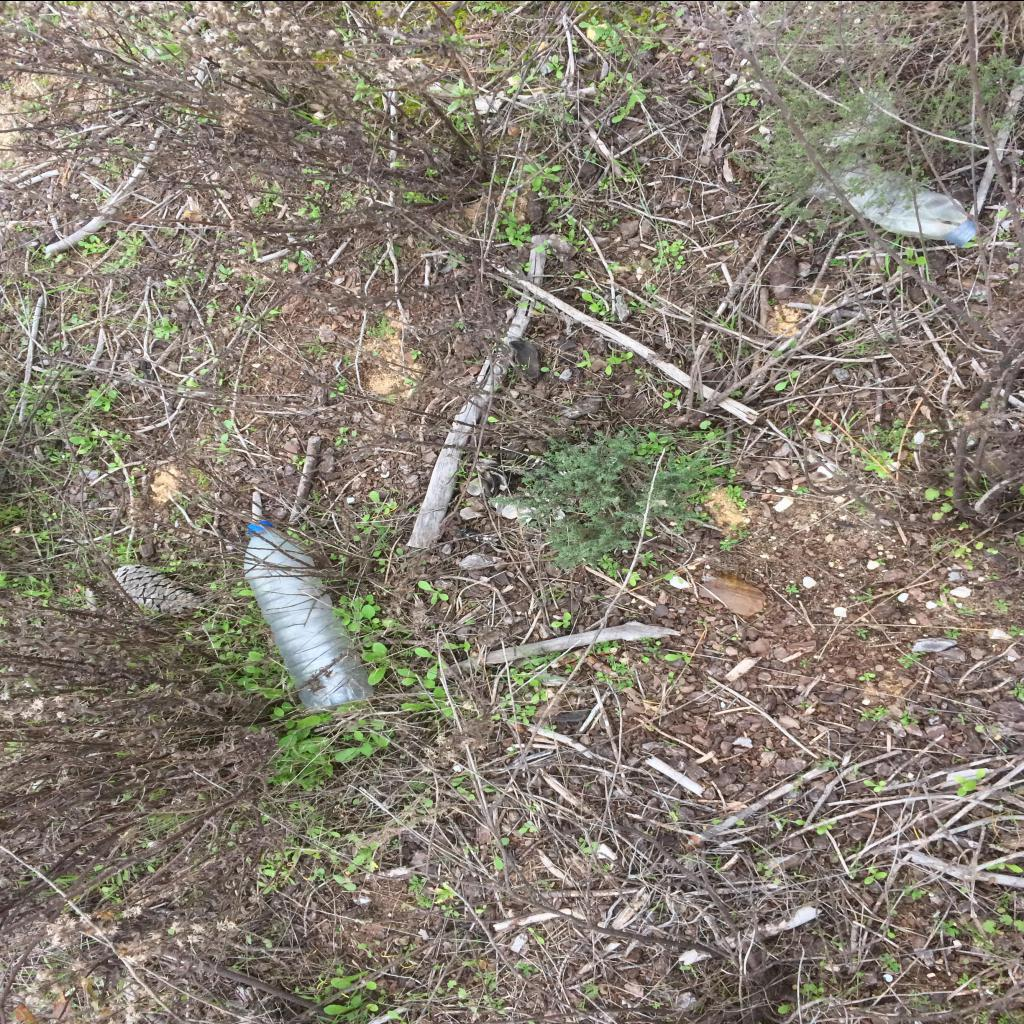Clear plastic bottle: (242, 522, 374, 712), (834, 162, 978, 246)
